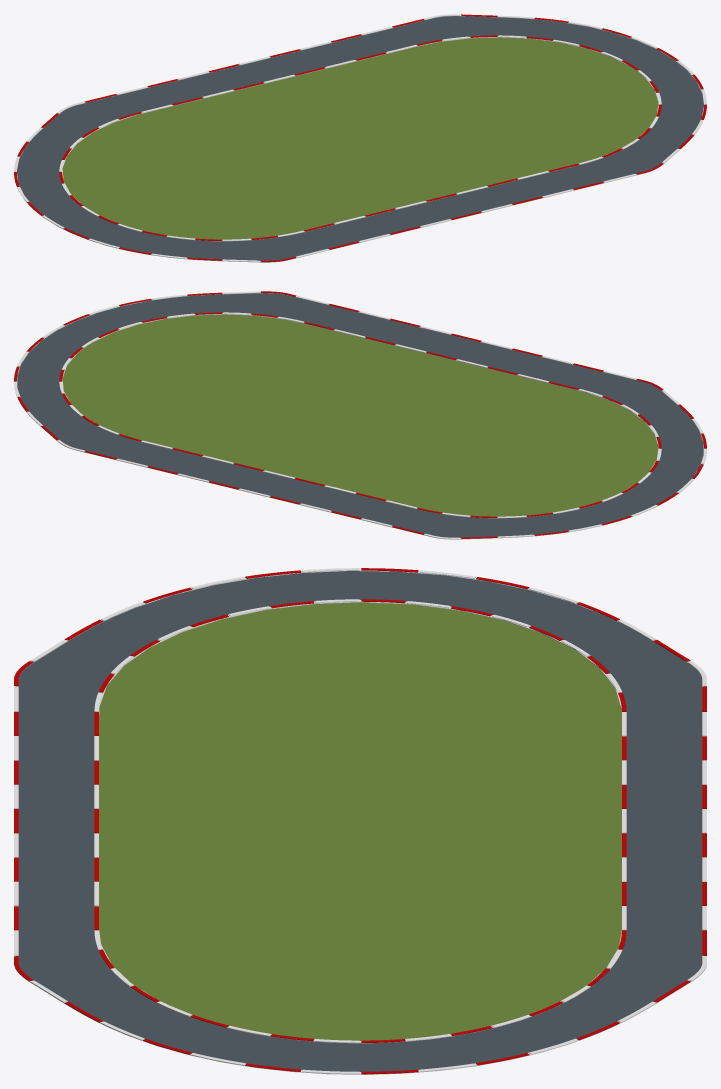
The model's file is Track.fbx.
3 views of the same model, one above another, from view 1: azimuth 30°, elevation 25°; view 2: azimuth 150°, elevation 25°; view 3: azimuth 270°, elevation 25° (orthographic). The views are drawn at different scales.
Parts seen in each view (by area): view 1: Track, Curb; view 2: Track, Curb; view 3: Track, Curb.
Boxes of the visible parts, bbox=[...] form: Track: bbox=[14, 14, 703, 262]; Curb: bbox=[14, 14, 706, 262]; Track: bbox=[16, 291, 706, 539]; Curb: bbox=[14, 291, 706, 539]; Track: bbox=[14, 568, 706, 1074]; Curb: bbox=[14, 568, 706, 1074].
Bounding box in the file's own units: 173 × 0.19 × 100.
